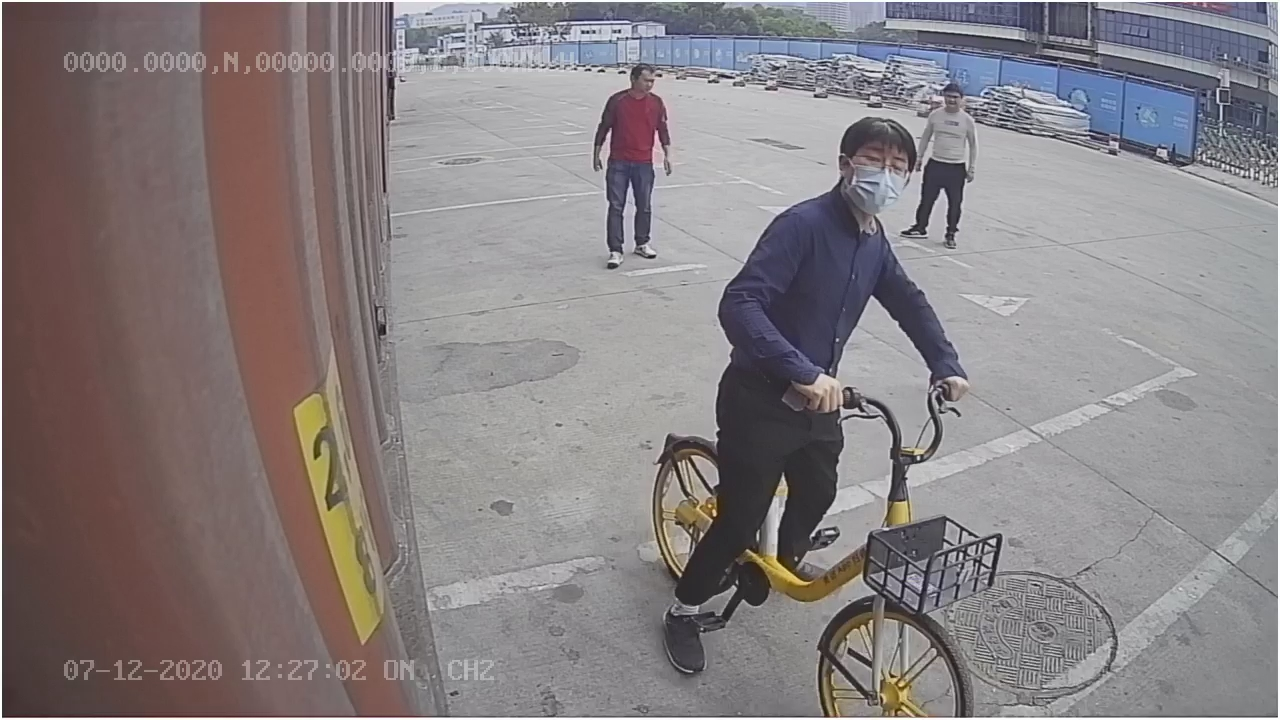person: (583, 58, 679, 269)
